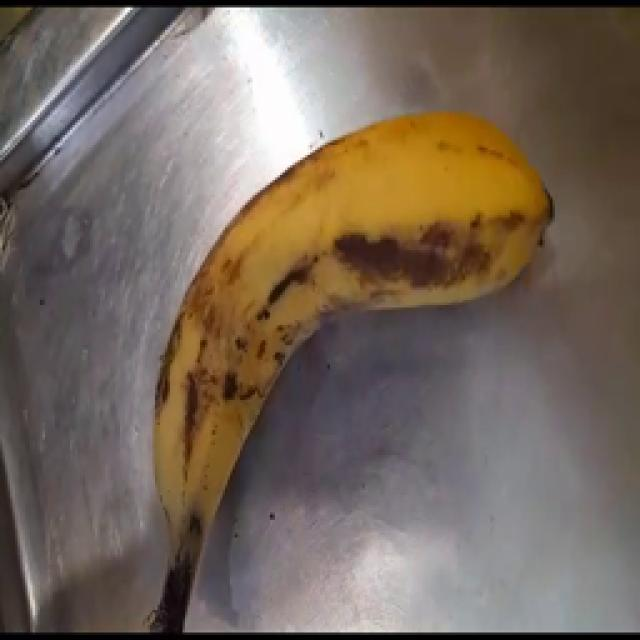Rotten_Banana: (107, 98, 640, 638)
